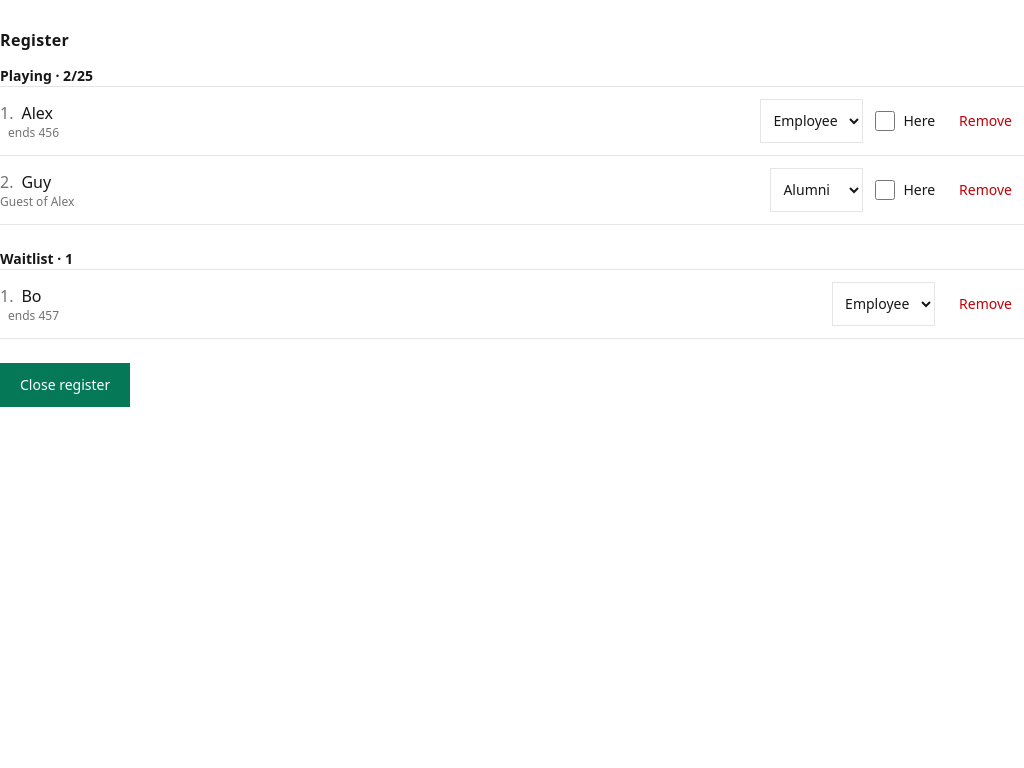
it: closing the register › says so when nobody will be put on hold, and can be cancelled
The image size is (1024, 768).
Click the button "Close register" at (65, 385), box [0, 363, 130, 407]
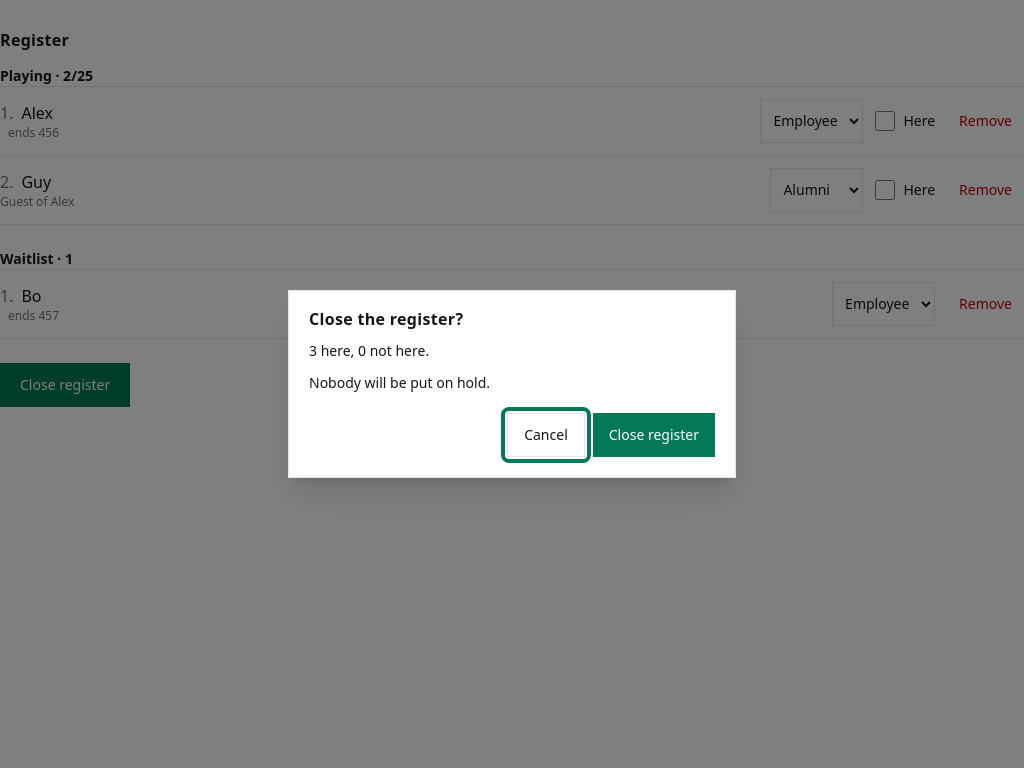
Check: the text "Nobody will be put on hold." is shown, box [309, 373, 490, 392]
Click the button "Cancel" at (546, 435), box [507, 413, 585, 457]
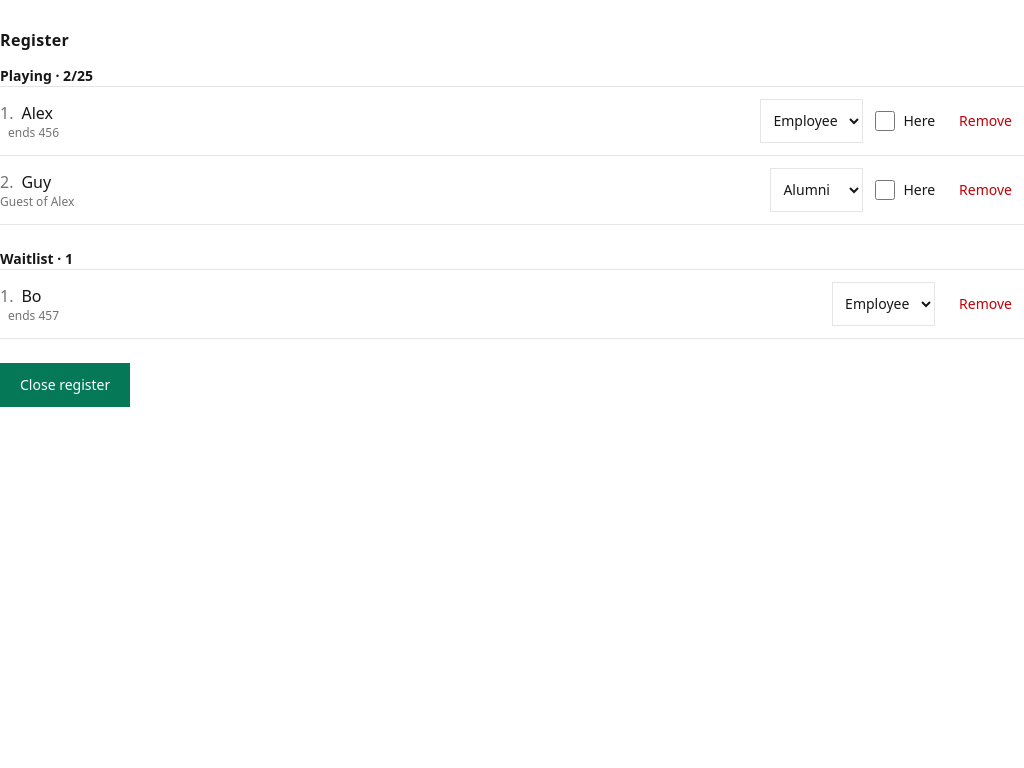
Check: the dialog is gone
